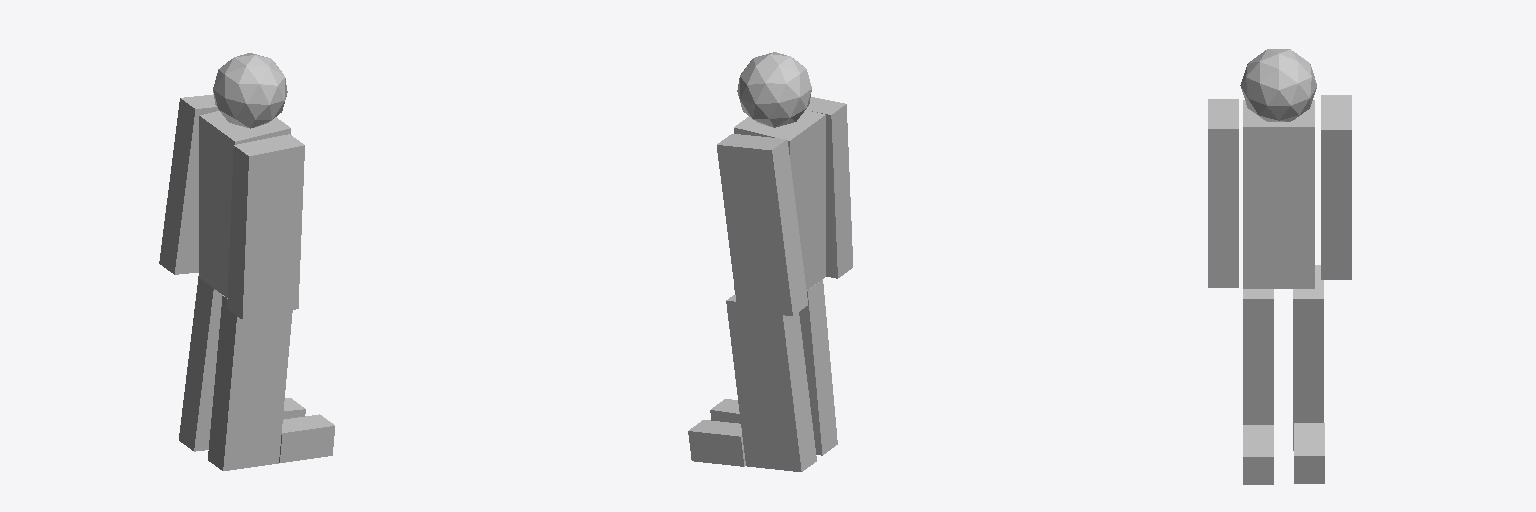
Rendered from player_000088.obj.
The picture shows the model from 3 angles: view 1: azimuth 30°, elevation 25°; view 2: azimuth 150°, elevation 25°; view 3: azimuth 270°, elevation 25°; orthographic projection.
Parts seen in each view (by area): view 1: Cube.013, Cube.010, Cube.007, Cube.012, Cube.008, Icosphere.001, Cube.011; view 2: Cube.012, Cube.008, Cube.007, Cube.013, Icosphere.001, Cube.010, Cube.009, Cube.011; view 3: Cube.007, Cube.013, Cube.012, Cube.008, Icosphere.001, Cube.010, Cube.009, Cube.011.
Boxes of the visible parts, x1,y1,x2,y2 form: Cube.013: [227, 134, 304, 319]; Cube.010: [208, 295, 292, 470]; Cube.007: [199, 111, 290, 297]; Cube.012: [159, 94, 218, 274]; Cube.008: [179, 276, 222, 451]; Icosphere.001: [213, 53, 287, 128]; Cube.011: [279, 414, 334, 462]; Cube.012: [717, 134, 807, 315]; Cube.008: [726, 295, 816, 471]; Cube.007: [734, 110, 825, 289]; Cube.013: [806, 97, 852, 278]; Icosphere.001: [737, 52, 811, 127]; Cube.010: [799, 279, 837, 455]; Cube.009: [688, 420, 745, 466]; Cube.011: [710, 399, 740, 423]; Cube.007: [1243, 100, 1314, 288]; Cube.013: [1208, 99, 1238, 287]; Cube.012: [1321, 95, 1351, 279]; Cube.008: [1293, 265, 1323, 450]; Icosphere.001: [1240, 49, 1316, 121]; Cube.010: [1243, 289, 1273, 424]; Cube.009: [1294, 423, 1324, 483]; Cube.011: [1243, 425, 1273, 484].
Bounding box in the file's own units: 0.8947 × 2.83 × 0.9137.